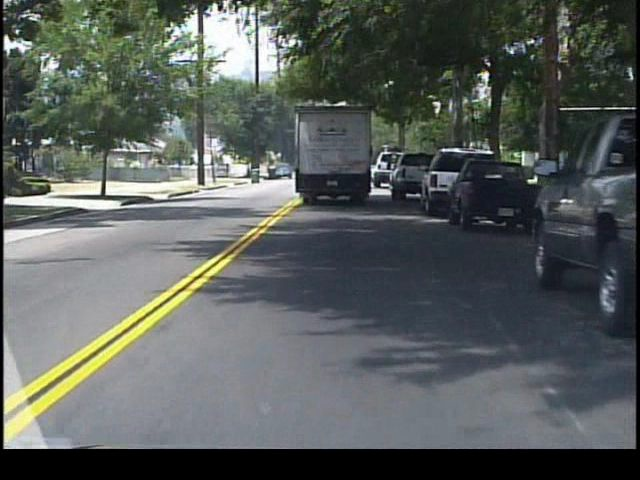person: (226, 163, 230, 180)
